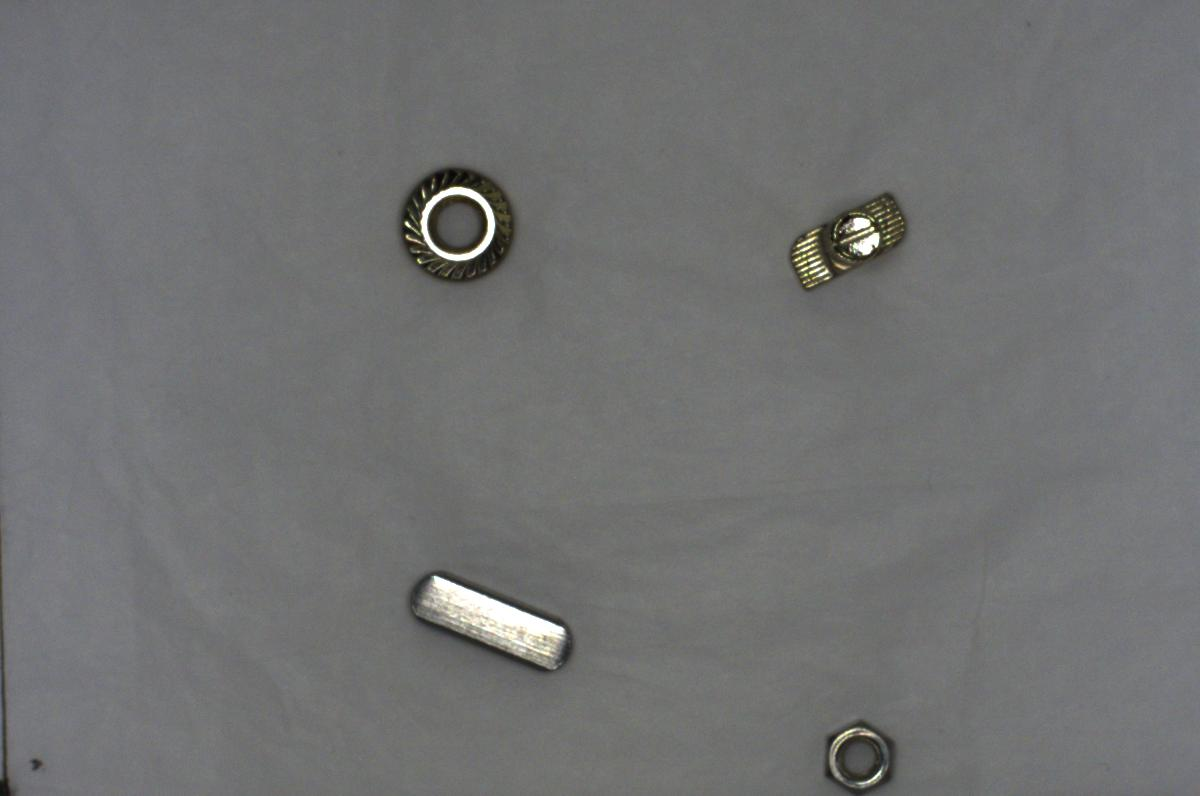Flange nut: (394, 162, 519, 288)
Hexagon nut: (810, 707, 901, 792)
Keybar: (405, 566, 573, 673)
T-shaped screw: (782, 178, 917, 307)
